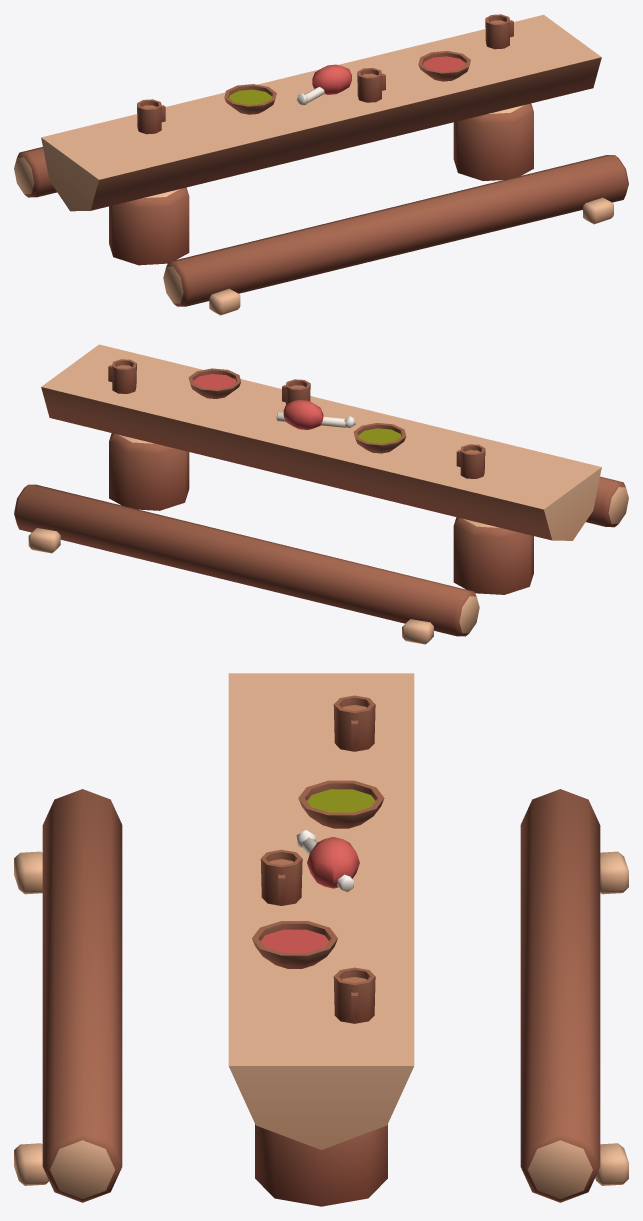
The model's file is table_feast.fbx.
The picture shows the model from 3 angles, top to bottom: view 1: azimuth 30°, elevation 25°; view 2: azimuth 150°, elevation 25°; view 3: azimuth 270°, elevation 25°; orthographic projection. The views are drawn at different scales.
Parts seen in each view (by area): view 1: table_feast; view 2: table_feast; view 3: table_feast.
Part boxes in pixels (x1,y1,x2,y2): table_feast: [14, 14, 628, 315]; table_feast: [14, 344, 628, 644]; table_feast: [14, 673, 628, 1206].
Bounding box in the file's own units: 1.4 × 0.355 × 0.9268.
Materials: 1 (1 with a texture image).
